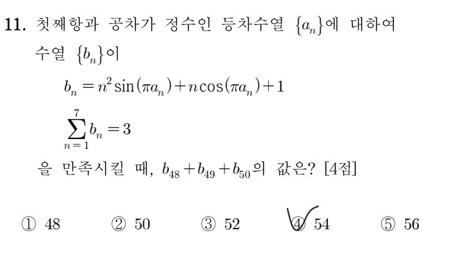1: (282, 205, 313, 233)
paper: (19, 214, 38, 234), (109, 215, 128, 235), (200, 214, 219, 234), (289, 214, 308, 234), (379, 215, 398, 235)
